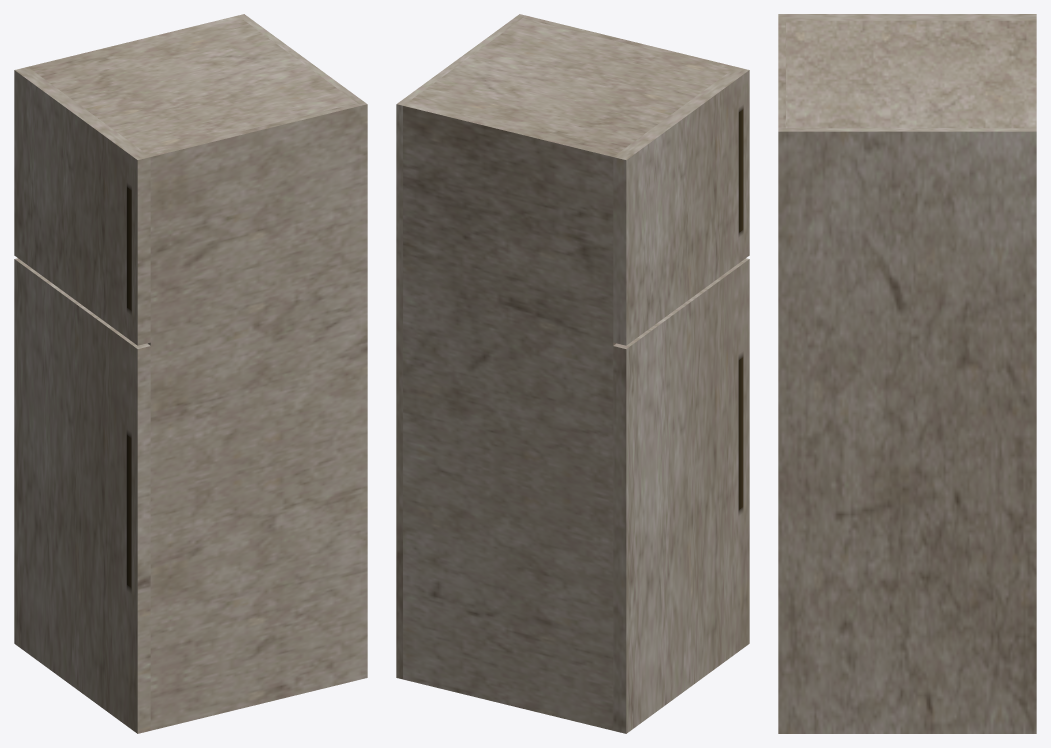
The model's file is fridge.fbx.
3 views of the same model, side by side, from view 1: azimuth 30°, elevation 25°; view 2: azimuth 150°, elevation 25°; view 3: azimuth 270°, elevation 25° (orthographic). The views are drawn at different scales.
Visible parts, largest first — view 1: fridge.001; view 2: fridge.001; view 3: fridge.001.
Boxes of the visible parts, bbox=[...] form: fridge.001: bbox=[14, 14, 367, 733]; fridge.001: bbox=[396, 14, 749, 733]; fridge.001: bbox=[778, 14, 1036, 733].
Bounding box in the file's own units: 0.9164 × 2.19 × 0.851.
Materials: 1 (1 with a texture image).
